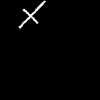single_crochet: (19, 1, 45, 27)
